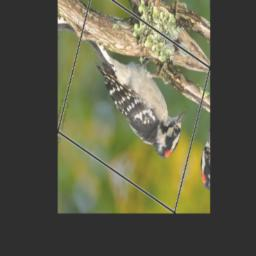Woodpecker: (71, 14, 193, 168)
